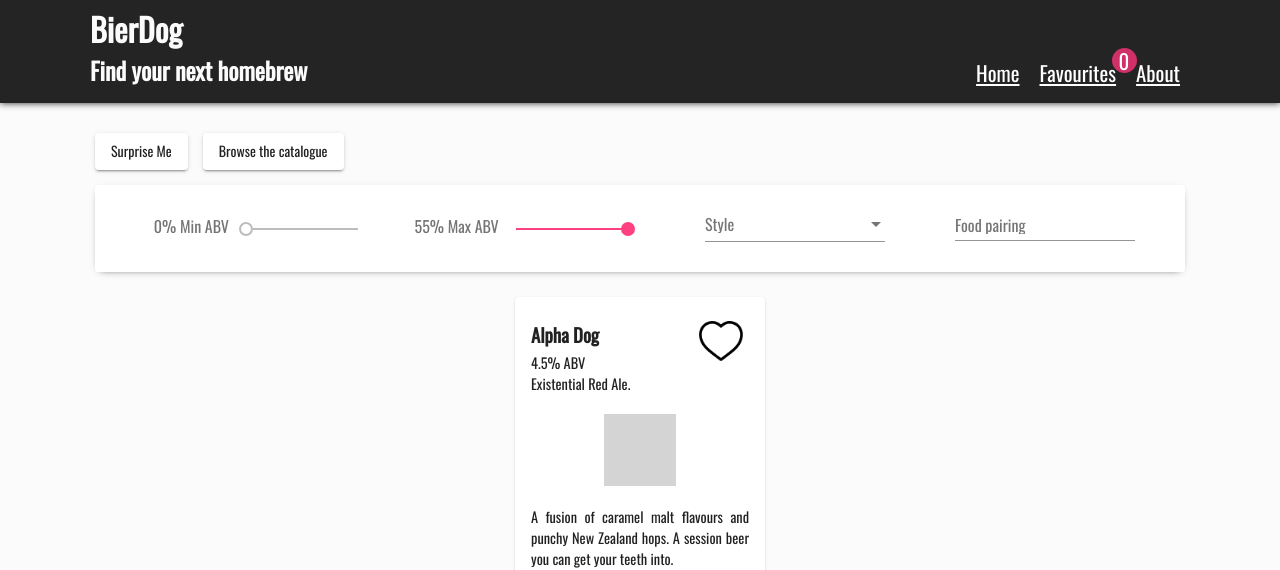
Test case: the search feature › should search by style
The width and height of the screenshot is (1280, 570).
Click the dropdown with test id "style" at (876, 225), box 871,222 -> 881,227
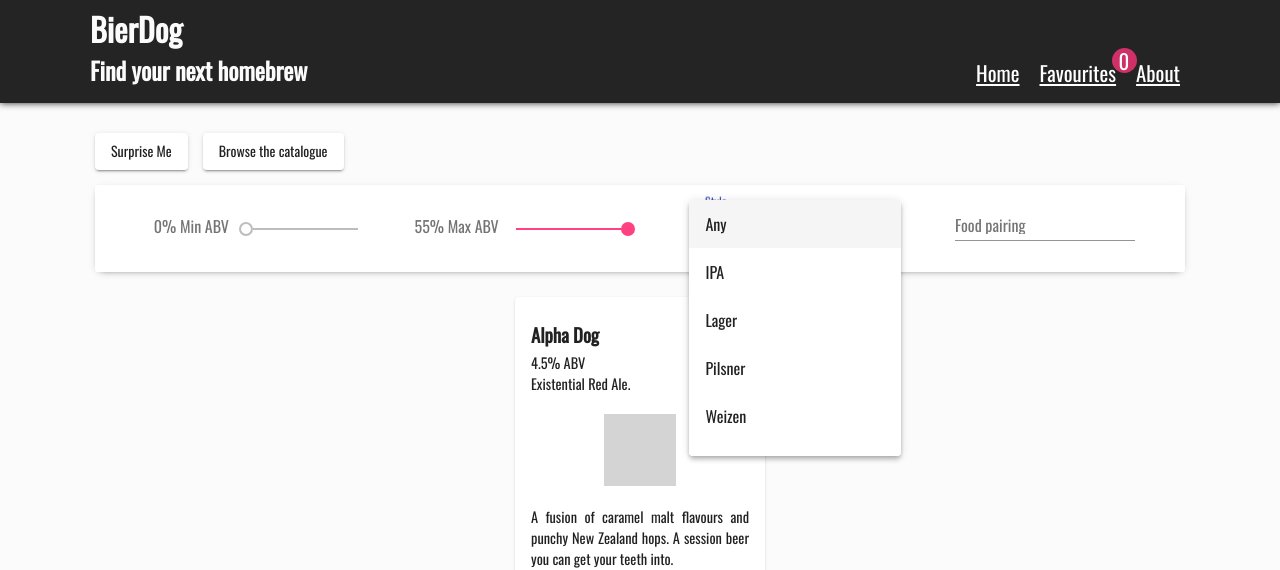
Scroll
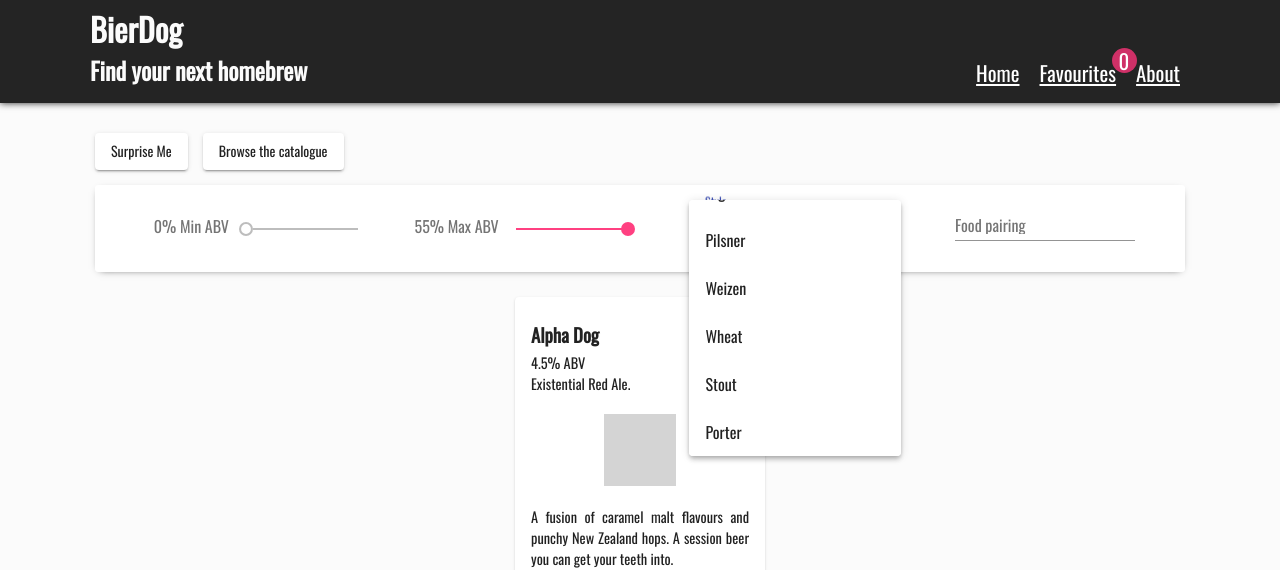
Click the text "Wheat" at (724, 336), box 705,324 -> 742,348
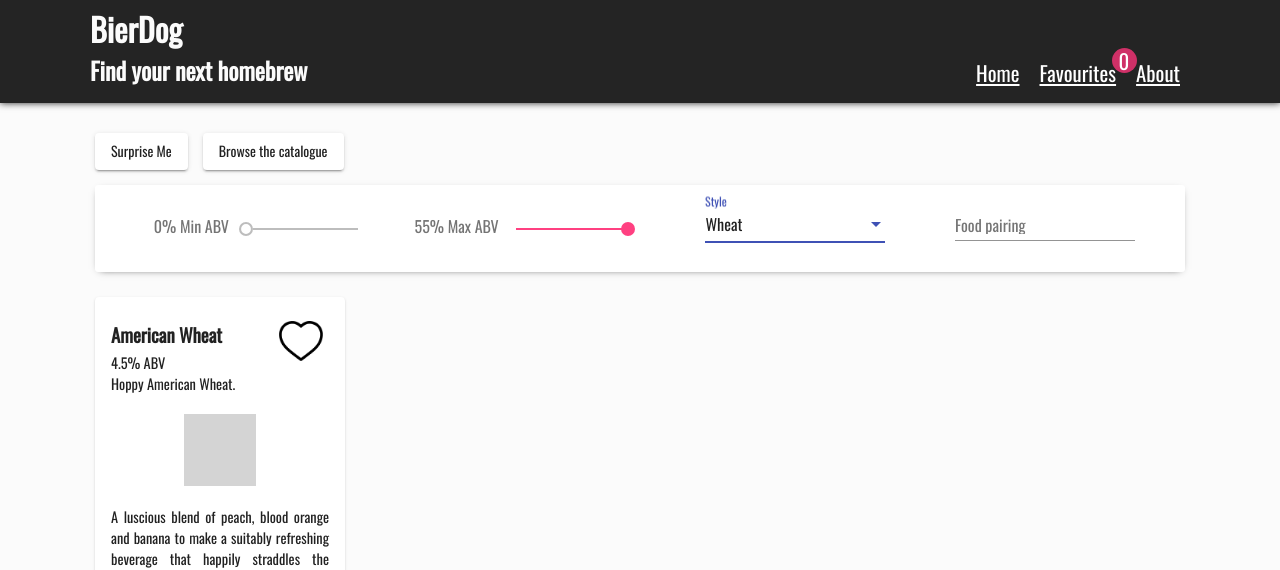
Check: the number of elements with test id "bier-card" is 2
Check: the number of headings with test id "bier-name" is 2
